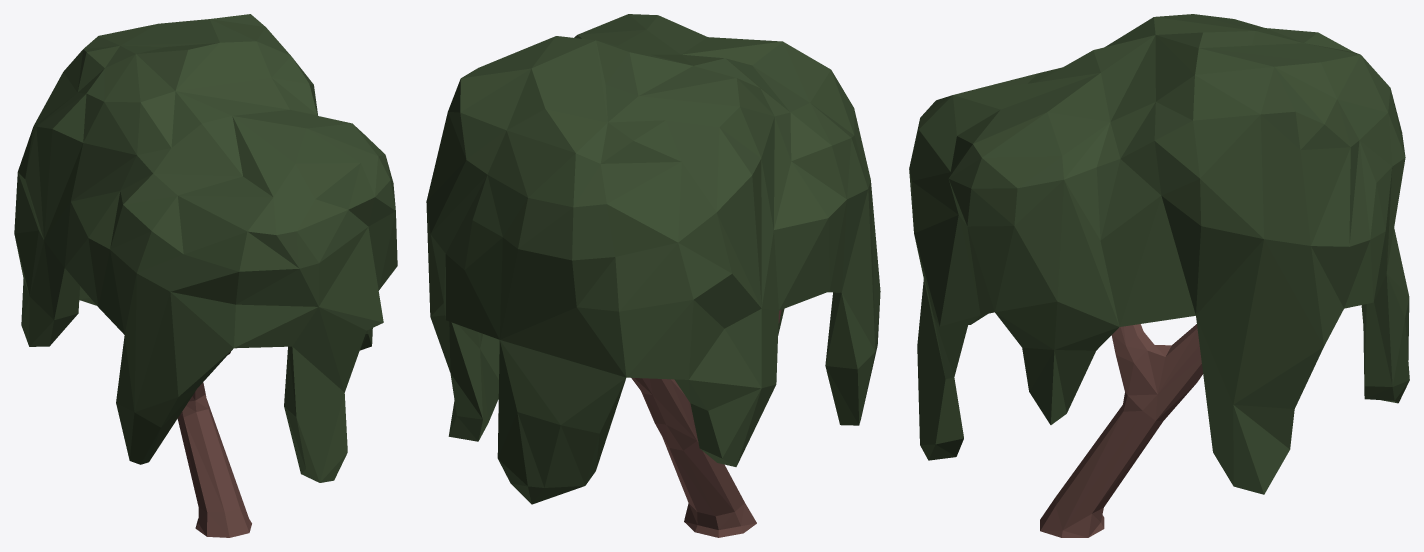
File: Willow_4.glb
3 renders of one model, left to right at view 1: azimuth 30°, elevation 25°; view 2: azimuth 150°, elevation 25°; view 3: azimuth 270°, elevation 25°, orthographic. The views are drawn at different scales.
Parts seen in each view (by area): view 1: Willow_4; view 2: Willow_4; view 3: Willow_4.
Boxes of the visible parts, x1,y1,x2,y2 form: Willow_4: [14, 14, 397, 537]; Willow_4: [426, 14, 880, 537]; Willow_4: [909, 14, 1409, 537].
Bounding box in the file's own units: 2.19 × 3.38 × 3.04.
